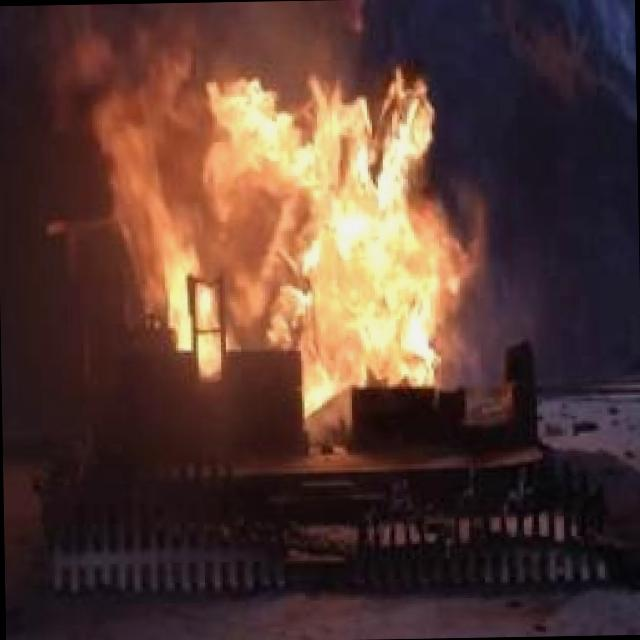fire: (94, 1, 512, 430)
